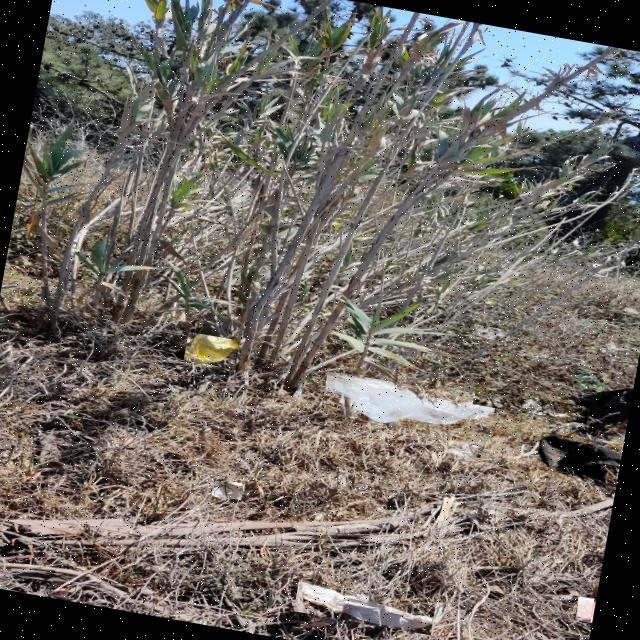Plastic film: (326, 375, 494, 425), (538, 589, 579, 601), (473, 325, 502, 339)
Single-use carrier bag: (185, 335, 238, 364)
Unlabeled litter: (298, 582, 432, 630), (540, 435, 620, 479), (474, 396, 587, 417), (574, 374, 604, 391), (212, 483, 242, 498), (447, 444, 477, 457), (578, 597, 593, 621)
